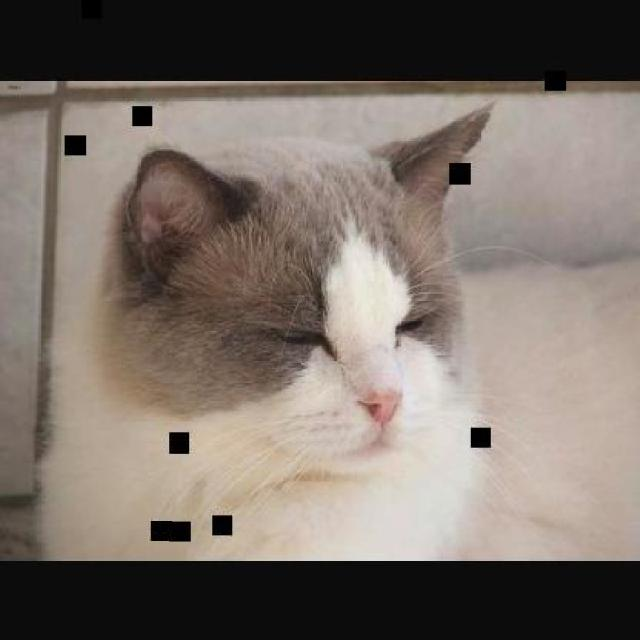unauthorized: (33, 98, 504, 557)
